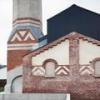chimneys: (7, 0, 45, 43)
